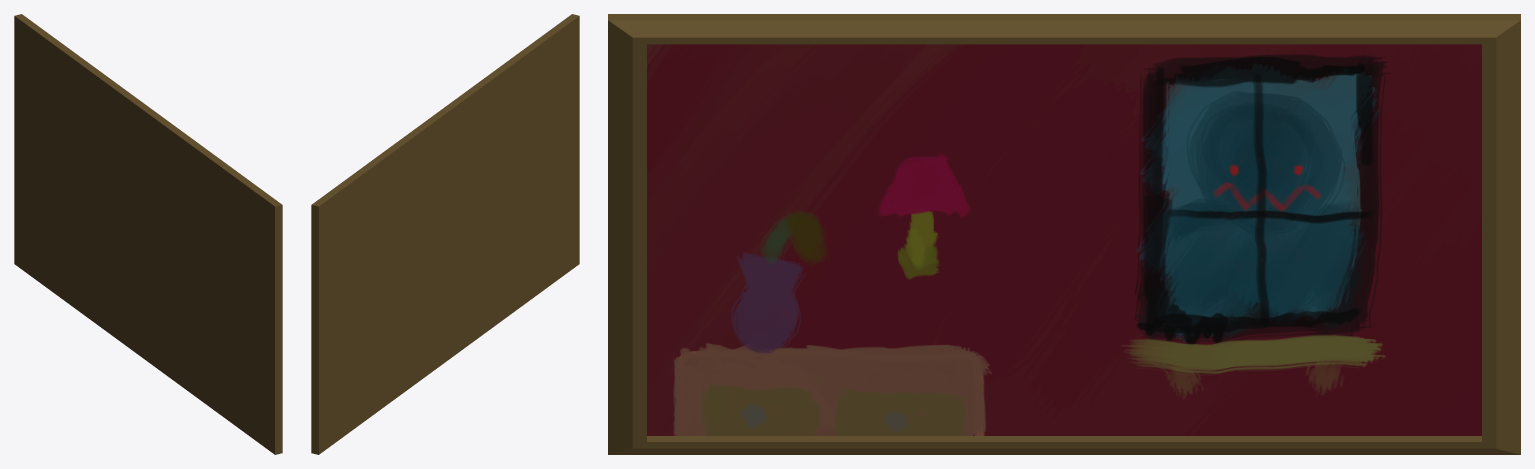
Rendered from Big-tavla2.fbx.
The picture shows the model from 3 angles, left to right: view 1: azimuth 30°, elevation 25°; view 2: azimuth 150°, elevation 25°; view 3: azimuth 270°, elevation 25°; orthographic projection. The views are drawn at different scales.
Visible parts, largest first — view 1: pCube1; view 2: pCube1; view 3: pCube1.
Part boxes in pixels (x1,y1,x2,y2): pCube1: (14,14,282,454); pCube1: (311,14,579,454); pCube1: (608,14,1520,454).
Size of the model in its own units: 0.5252 by 9 by 17.13.
1 material, 1 textured.
